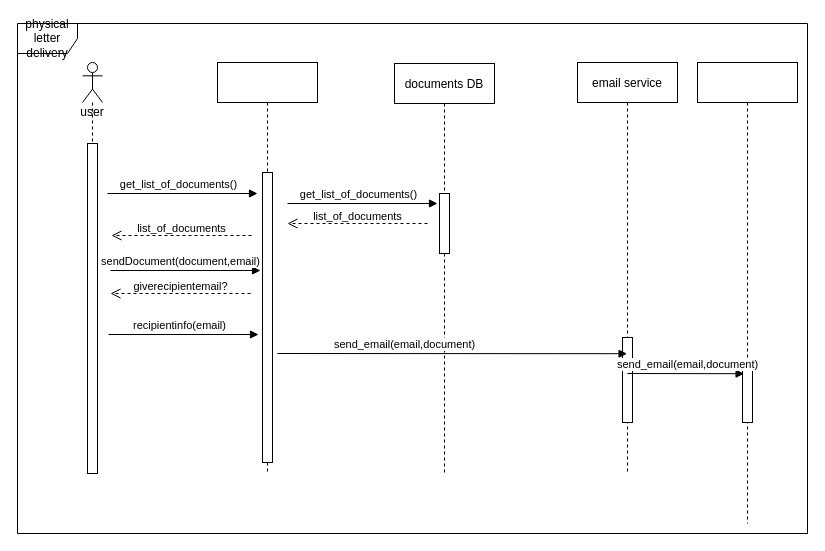
Image size: 825x551. Some labels were removed from this diagram. Here are the shapes that lost their labels. From the top down, the box of each, then its label:
(216, 62, 318, 474): user letter sending panel
(696, 62, 798, 524): external mail service
